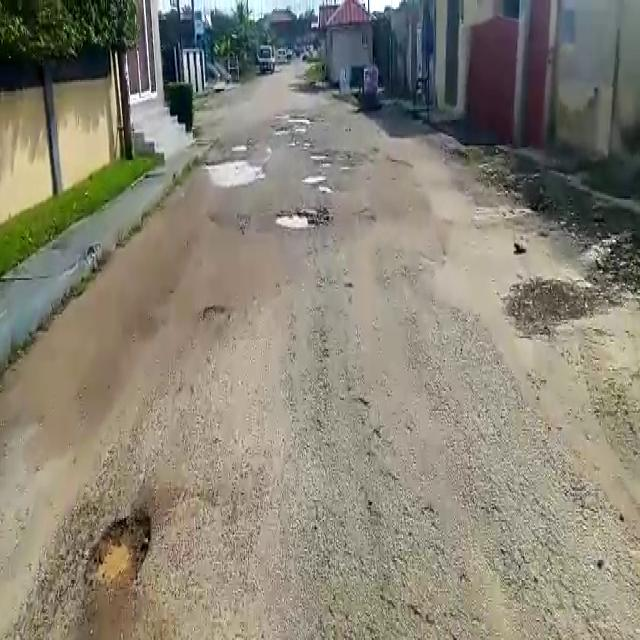Pothole: (92, 509, 151, 587), (204, 155, 262, 185), (273, 206, 320, 229), (303, 172, 327, 188)
